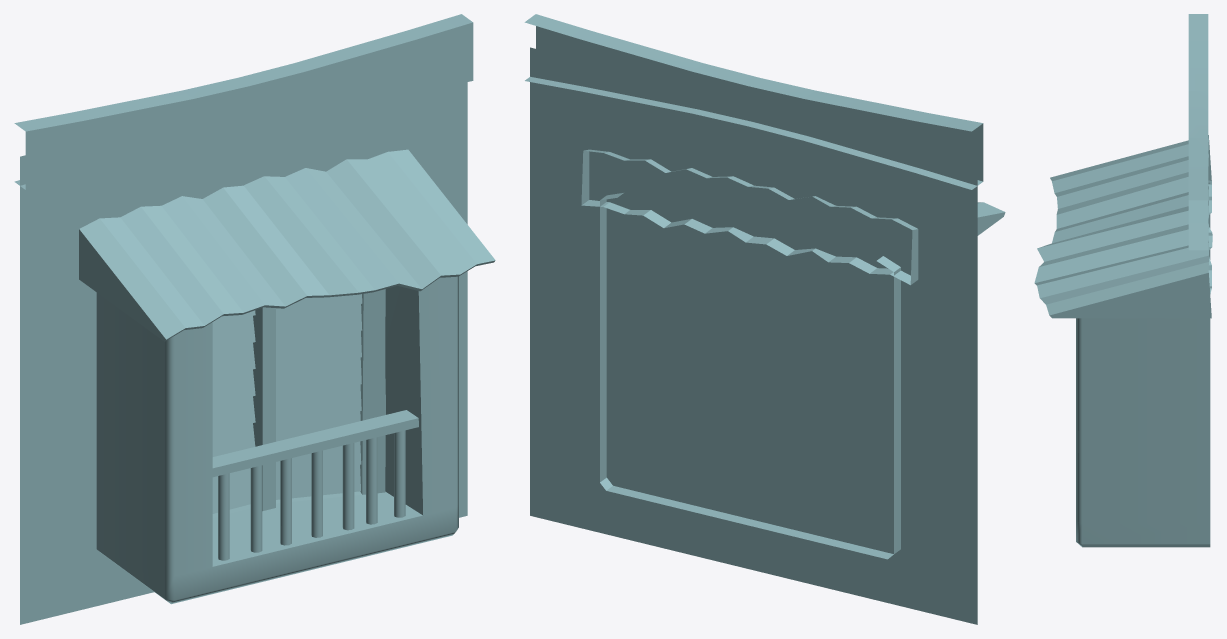
The model's file is Balcony_3.fbx.
The picture shows the model from 3 angles, left to right: view 1: azimuth 30°, elevation 25°; view 2: azimuth 150°, elevation 25°; view 3: azimuth 270°, elevation 25°; orthographic projection. The views are drawn at different scales.
Parts seen in each view (by area): view 1: Balcony_3; view 2: Balcony_3; view 3: Balcony_3.
Part boxes in pixels (x1=…): Balcony_3: x1=14, y1=14, x2=495, y2=624; Balcony_3: x1=524, y1=14, x2=1005, y2=624; Balcony_3: x1=1034, y1=14, x2=1212, y2=547.
Size of the model in its own units: 4 by 4.25 by 1.62.
